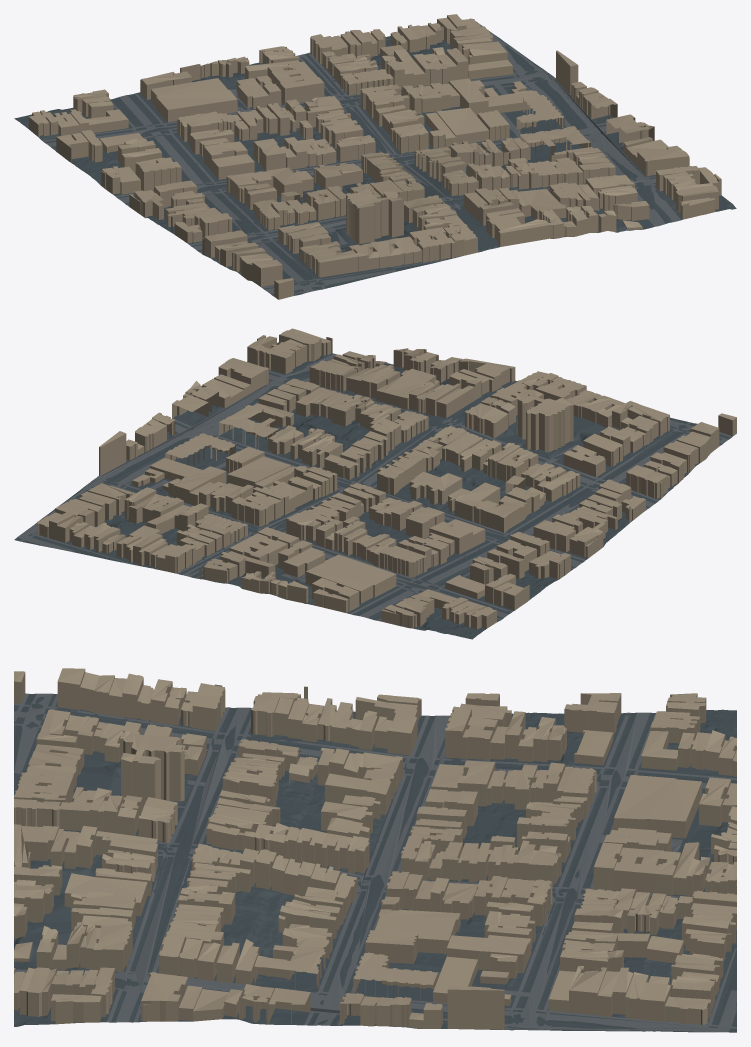
The model's file is epsg26910-1430-10888.lod0.glb.
3 renders of one model, top to bottom at view 1: azimuth 30°, elevation 25°; view 2: azimuth 150°, elevation 25°; view 3: azimuth 270°, elevation 25°, orthographic. The views are drawn at different scales.
Parts seen in each view (by area): view 1: epsg26910-1430-10888-lod0; view 2: epsg26910-1430-10888-lod0; view 3: epsg26910-1430-10888-lod0.
Boxes of the visible parts, x1,y1,x2,y2 form: epsg26910-1430-10888-lod0: [14, 14, 736, 299]; epsg26910-1430-10888-lod0: [14, 328, 736, 639]; epsg26910-1430-10888-lod0: [14, 668, 736, 1032].
Bounding box in the file's own units: 384 × 45.66 × 384.
